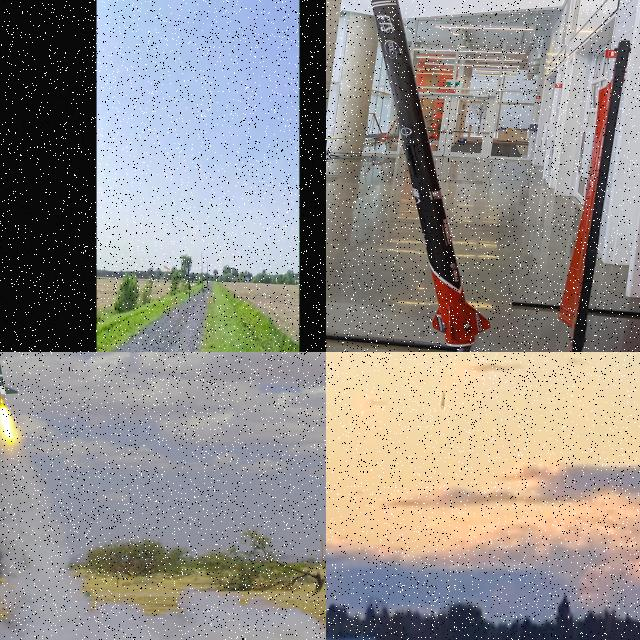Rocket: (371, 0, 491, 347), (187, 266, 191, 291), (441, 390, 445, 409)
